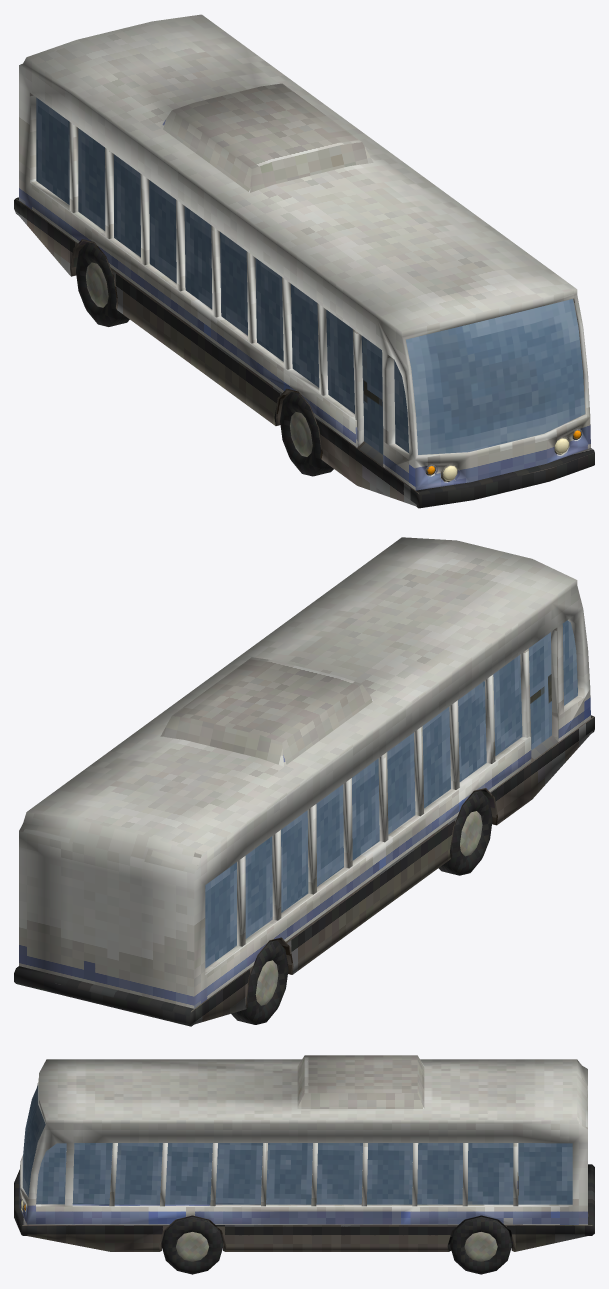
File: bus.glb
The picture shows the model from 3 angles, top to bottom: view 1: azimuth 30°, elevation 25°; view 2: azimuth 150°, elevation 25°; view 3: azimuth 270°, elevation 25°; orthographic projection. The views are drawn at different scales.
Parts seen in each view (by area): view 1: hull, hull.001, bottom, wheel1, wheel4, around wheel, wheel middle4, wheel middle1; view 2: hull, hull.001, bottom, wheel4, wheel1, around wheel, wheel middle1, wheel middle4; view 3: hull, hull.001, bottom, wheel2, wheel3, wheel middle2, wheel middle3, around wheel.
Part boxes in pixels (x1,y1,x2,y2): hull: [19, 14, 590, 490]; hull.001: [36, 97, 585, 454]; bottom: [14, 197, 594, 508]; wheel1: [280, 392, 333, 476]; wheel4: [76, 242, 129, 326]; around wheel: [70, 239, 322, 459]; wheel middle4: [86, 262, 108, 307]; wheel middle1: [290, 412, 312, 456]; hull: [19, 537, 590, 1008]; hull.001: [205, 620, 577, 968]; bottom: [14, 715, 594, 1026]; wheel4: [231, 940, 288, 1024]; wheel1: [438, 791, 492, 875]; around wheel: [245, 788, 497, 1007]; wheel middle1: [460, 811, 482, 856]; wheel middle4: [255, 960, 278, 1005]; hull: [19, 1055, 587, 1224]; hull.001: [22, 1085, 572, 1204]; bottom: [14, 1164, 594, 1251]; wheel2: [161, 1216, 223, 1274]; wheel3: [450, 1216, 511, 1274]; wheel middle2: [176, 1232, 208, 1261]; wheel middle3: [464, 1232, 497, 1261]; around wheel: [158, 1215, 515, 1251].
Size of the model in its own units: 11.22 by 14.33 by 44.1.
8 materials, 8 textured.
